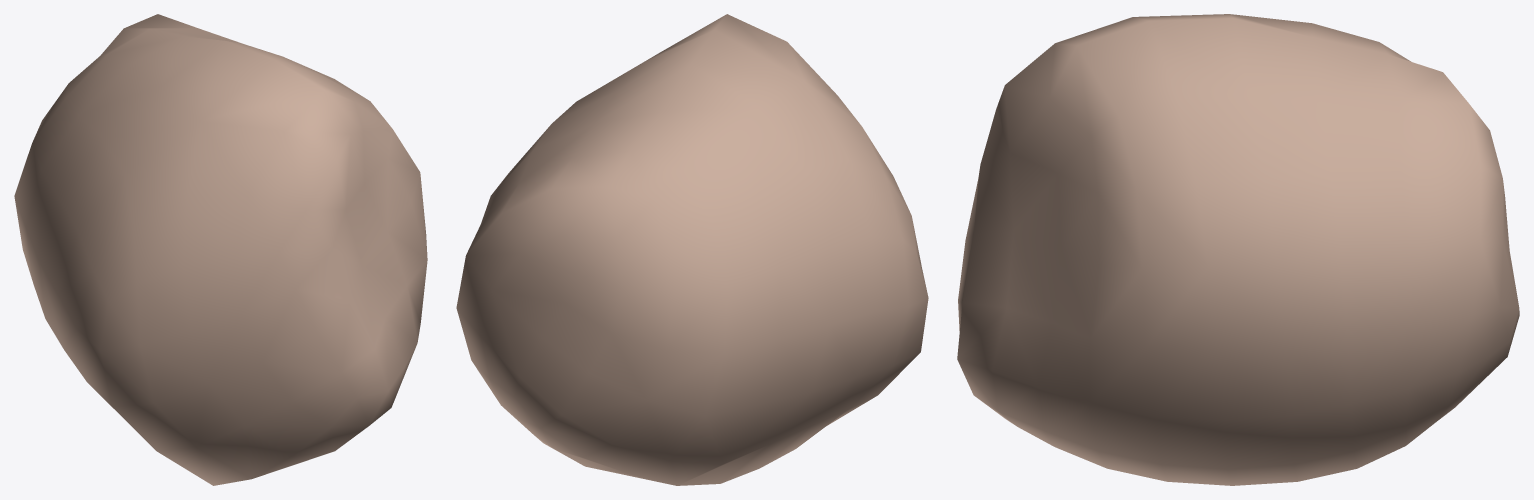
File: object_GEO-pebble_004.glb
3 views of the same model, side by side, from view 1: azimuth 30°, elevation 25°; view 2: azimuth 150°, elevation 25°; view 3: azimuth 270°, elevation 25° (orthographic). The views are drawn at different scales.
Visible parts, largest first — view 1: GEO-pebble.004; view 2: GEO-pebble.004; view 3: GEO-pebble.004.
Boxes of the visible parts, left/top/right/bottom form: GEO-pebble.004: left=14, top=14, right=427, bottom=485; GEO-pebble.004: left=456, top=14, right=928, bottom=485; GEO-pebble.004: left=957, top=14, right=1519, bottom=485.
Size of the model in its own units: 0.0678 by 0.0714 by 0.0813.
